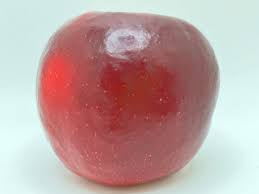apple: (34, 13, 222, 188)
